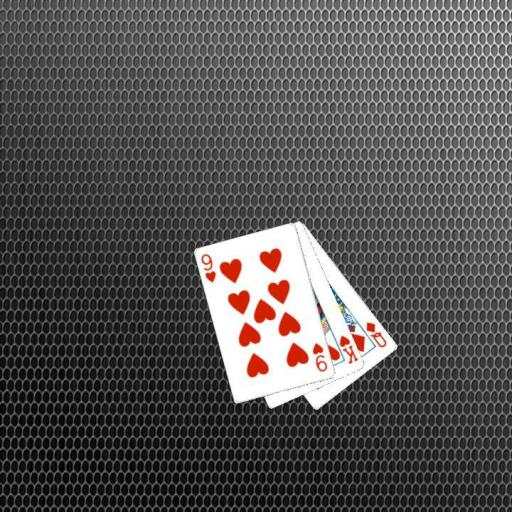9H: (198, 251, 218, 285), (310, 340, 330, 373)
KH: (336, 332, 360, 366)
QD: (363, 319, 388, 349)
